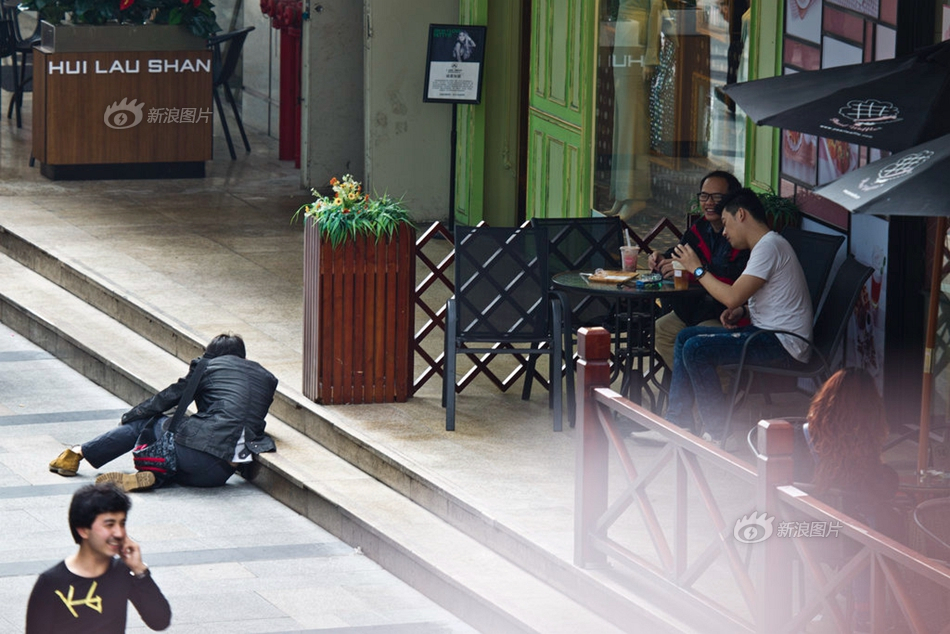fall: (39, 320, 283, 494)
